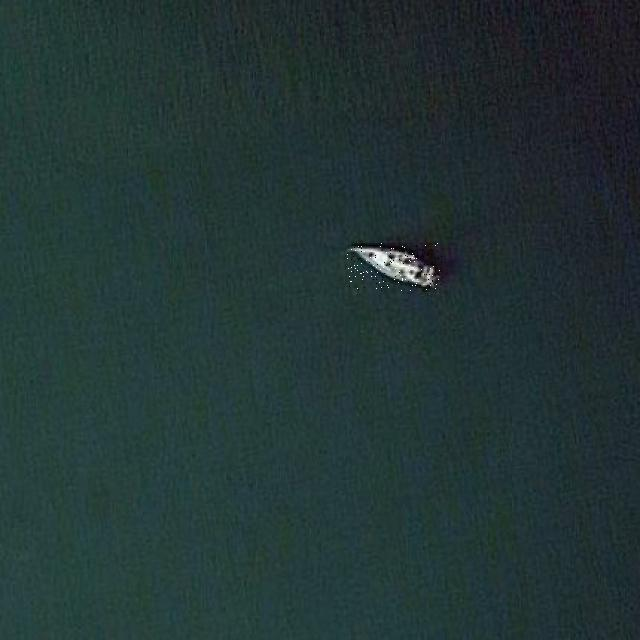boat: (347, 244, 442, 292)
